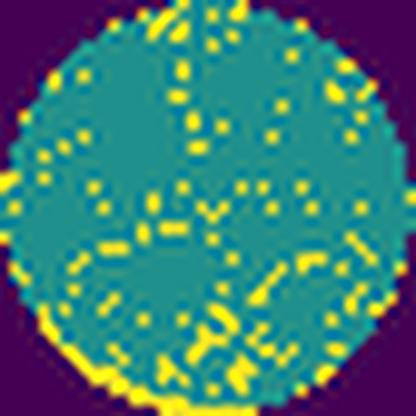Edge-Loc: (31, 303, 260, 416)
